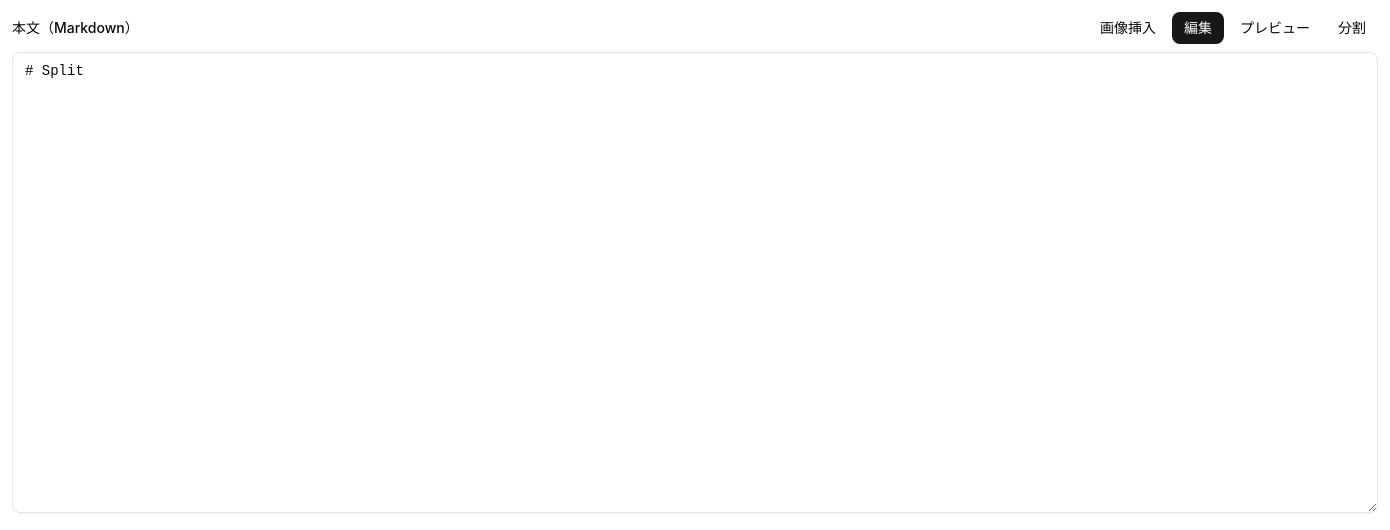
Test: MarkdownEditor › 分割タブに切り替えるとエディタとプレビューが並列表示される
This screenshot has width=1390, height=530.
Click the button "分割". click: [1352, 28]
box: [1326,12,1378,44]
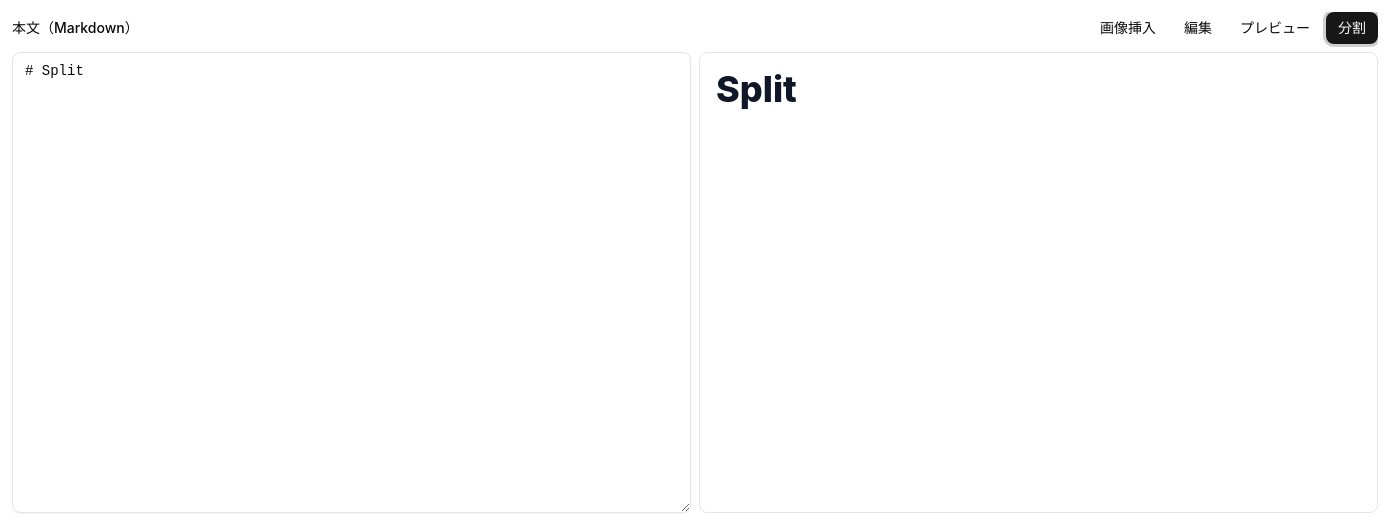
Expected: the text box is shown, [12,52,691,513]
Expected: the element with test id "preview-pane" is shown, [699,52,1378,513]
